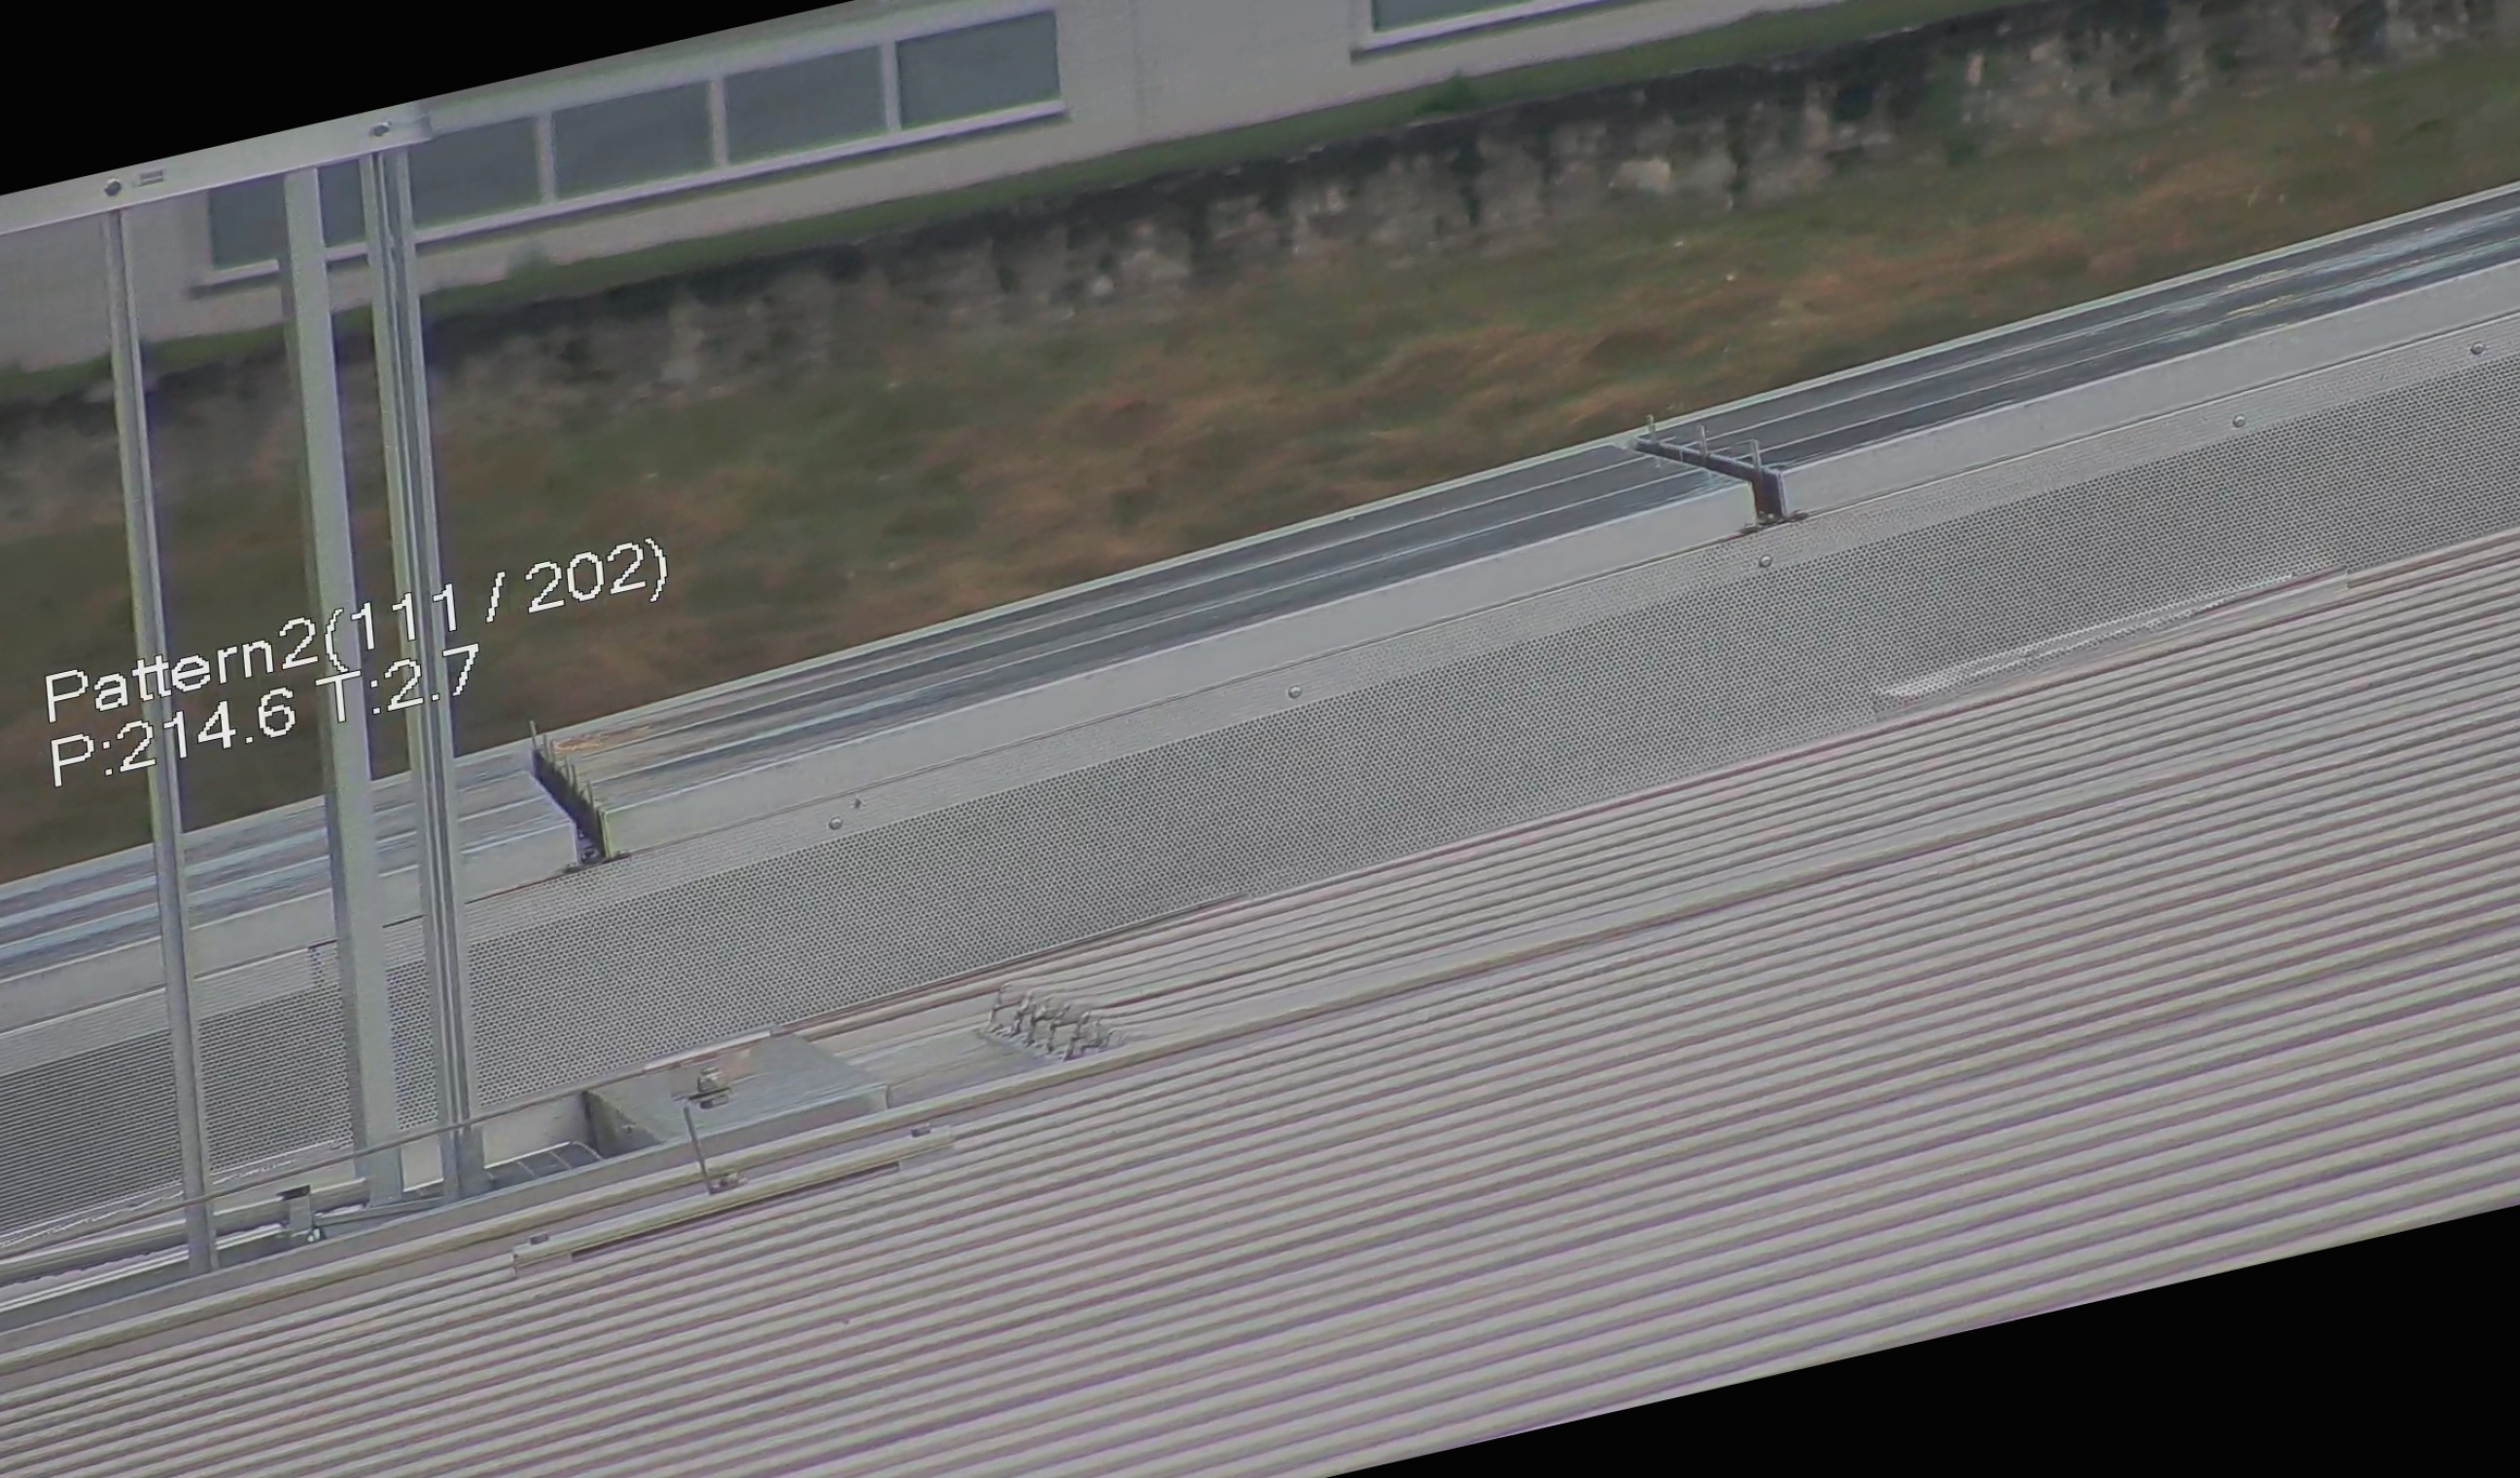Other: (482, 700, 617, 894)
